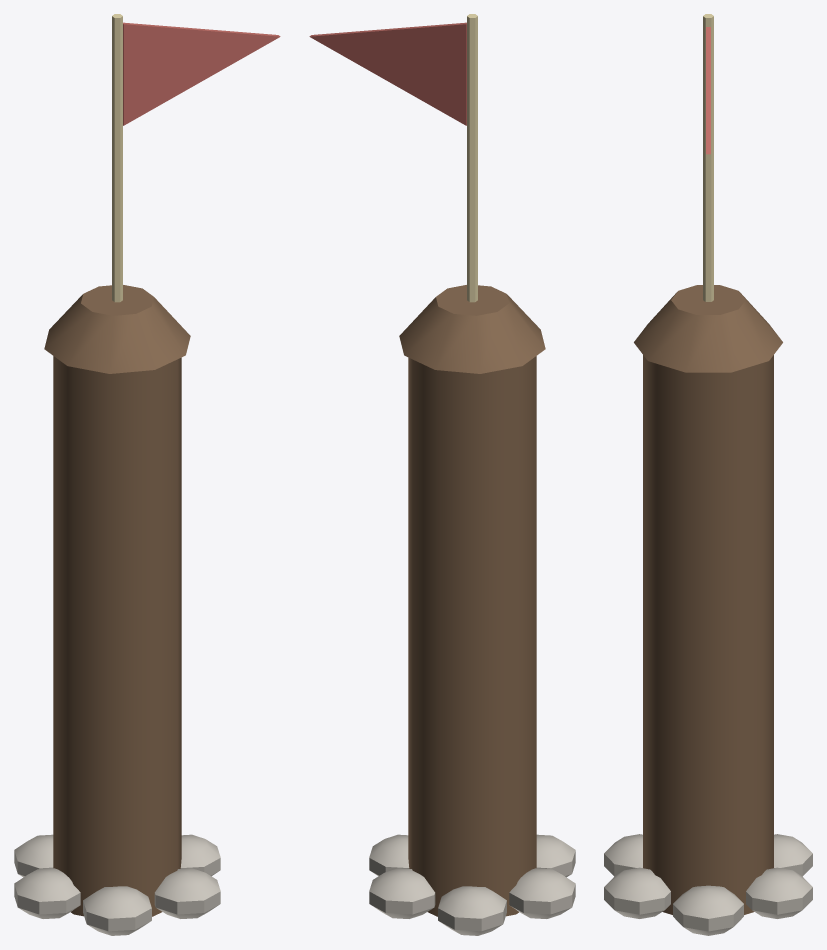
Rendered from Bentengan_Fort_Red.fbx.
3 renders of one model, left to right at view 1: azimuth 30°, elevation 25°; view 2: azimuth 150°, elevation 25°; view 3: azimuth 270°, elevation 25°, orthographic.
Parts seen in each view (by area): view 1: Bentengan_Fort_Red; view 2: Bentengan_Fort_Red; view 3: Bentengan_Fort_Red.
Boxes of the visible parts, left/top/right/bottom form: Bentengan_Fort_Red: left=14, top=14, right=280, bottom=935; Bentengan_Fort_Red: left=309, top=14, right=575, bottom=935; Bentengan_Fort_Red: left=604, top=14, right=812, bottom=935.
Size of the model in its own units: 0.6461 by 2.08 by 0.4466.
